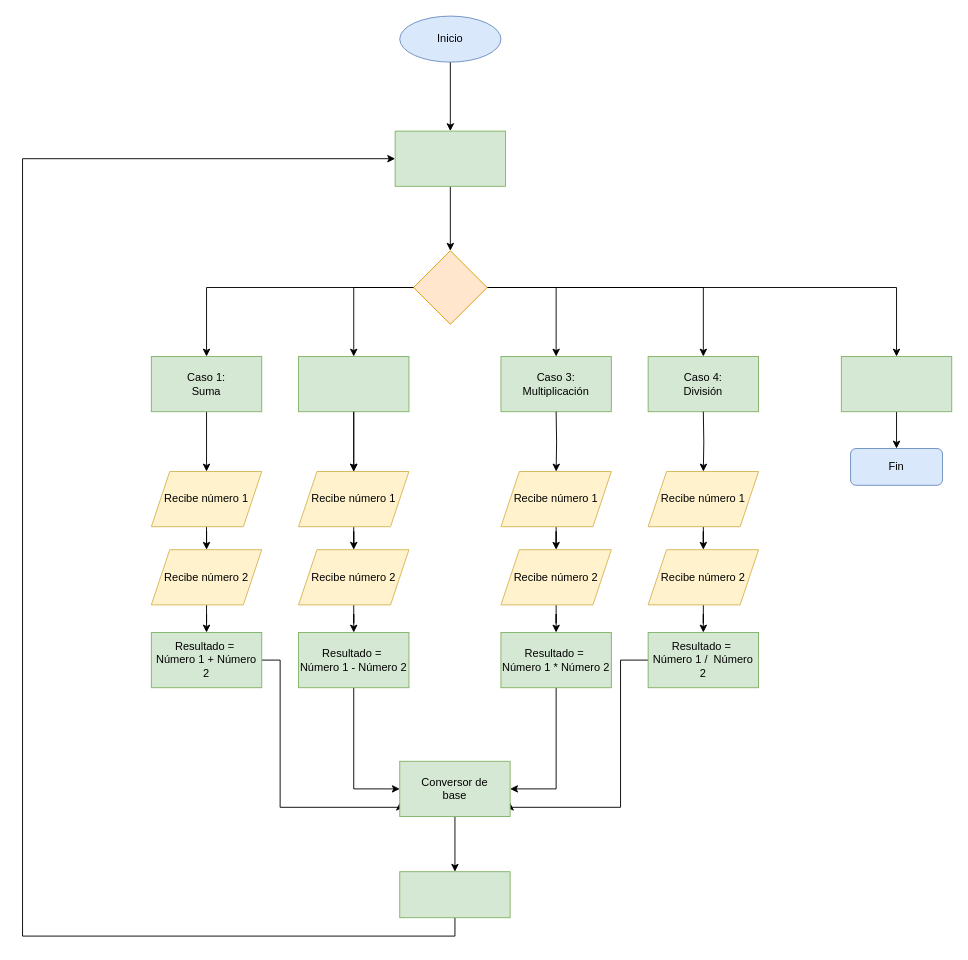
This 968x960 diagram has some shape labels left out. Here are the shapes that lost their labels. From the top down, the box of each, then its label:
(394, 130, 506, 186): Menú
(413, 250, 487, 324): Escoger operación
(298, 356, 409, 412): Caso 2: Resta
(840, 356, 952, 412): Caso 5: Salir
(399, 871, 510, 918): Imprimir resultados
